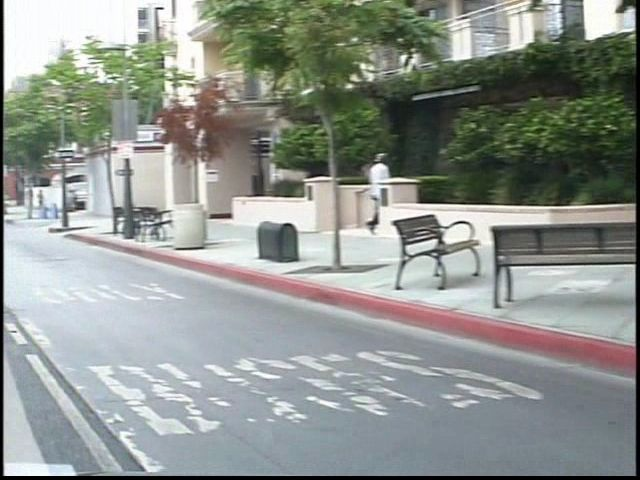person: (344, 145, 376, 216), (18, 181, 36, 215)
